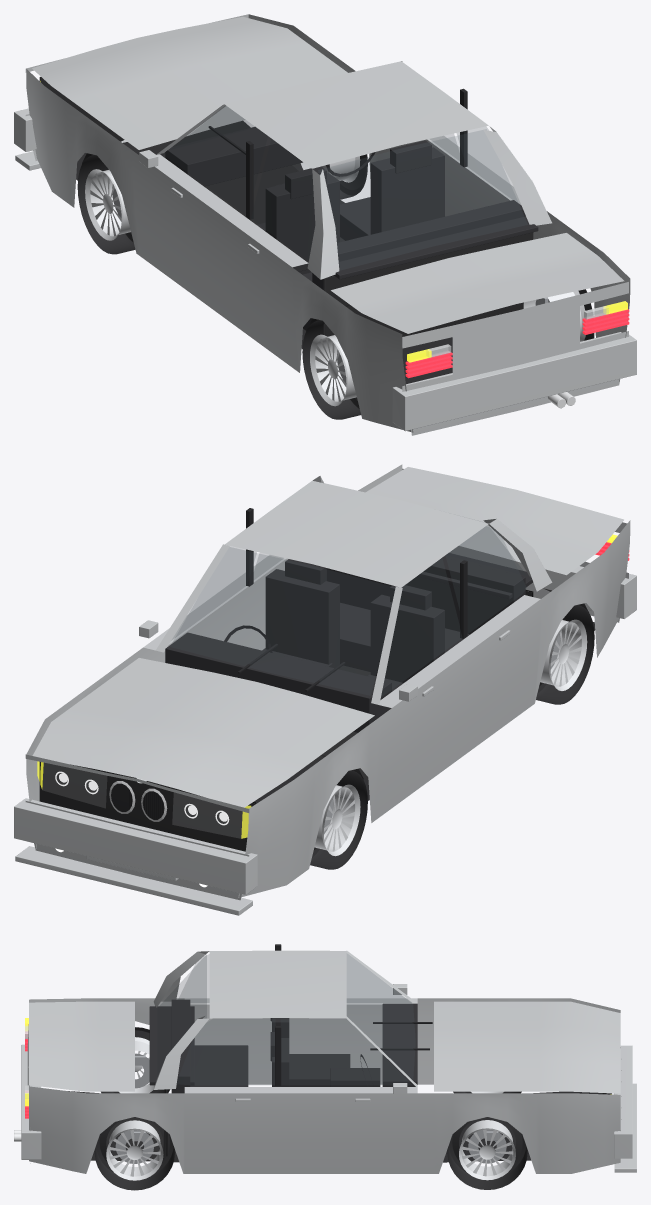
The model's file is vehicle.glb.
3 renders of one model, top to bottom at view 1: azimuth 30°, elevation 25°; view 2: azimuth 150°, elevation 25°; view 3: azimuth 270°, elevation 25°, orthographic. The views are drawn at different scales.
Parts seen in each view (by area): view 1: BODY_Monocoque_Shell, GLASS_Greenhouse, BODY_Greenhouse_Structure, CABIN_Montana_Interior, BODY_Rear_Bumper, PLATFORM_Underbody, PLATFORM_Core_Bulkheads, WHEEL_RR_Style32, WHEEL_FR_Style32, WHEEL_FR_Tire, WHEEL_RR_Tire, BODY_Front_Bumper (+4 smaller); view 2: BODY_Monocoque_Shell, GLASS_Greenhouse, CABIN_Montana_Interior, BODY_Greenhouse_Structure, BODY_Front_Bumper, PLATFORM_Core_Bulkheads, LIGHTING_Headlamp_Covers, WHEEL_RR_Style32, WHEEL_FR_Style32, BODY_Rear_Bumper, WHEEL_RR_Tire, WHEEL_FR_Tire (+3 smaller); view 3: BODY_Monocoque_Shell, GLASS_Greenhouse, BODY_Greenhouse_Structure, CABIN_Montana_Interior, BODY_Front_Bumper, WHEEL_RL_Style32, WHEEL_FL_Style32, WHEEL_FL_Tire, WHEEL_RL_Tire, PLATFORM_Underbody, BODY_Rear_Bumper, BRAKE_WHEEL_FL (+5 smaller).
Part boxes in pixels (x1,y1,x2,y2): BODY_Monocoque_Shell: [25, 14, 630, 435]; GLASS_Greenhouse: [163, 106, 527, 269]; BODY_Greenhouse_Structure: [155, 61, 551, 279]; CABIN_Montana_Interior: [165, 127, 538, 330]; BODY_Rear_Bumper: [392, 332, 636, 431]; PLATFORM_Underbody: [76, 120, 452, 384]; PLATFORM_Core_Bulkheads: [39, 77, 533, 336]; WHEEL_RR_Style32: [310, 334, 356, 406]; WHEEL_FR_Style32: [85, 169, 130, 240]; WHEEL_FR_Tire: [77, 154, 135, 254]; WHEEL_RR_Tire: [302, 320, 360, 419]; BODY_Front_Bumper: [14, 108, 126, 170]; BODY_Monocoque_Shell: [25, 464, 630, 900]; GLASS_Greenhouse: [170, 525, 526, 696]; CABIN_Montana_Interior: [165, 553, 532, 732]; BODY_Greenhouse_Structure: [143, 476, 552, 707]; BODY_Front_Bumper: [14, 798, 257, 915]; PLATFORM_Core_Bulkheads: [39, 590, 533, 851]; LIGHTING_Headlamp_Covers: [42, 763, 242, 838]; WHEEL_RR_Style32: [540, 619, 587, 690]; WHEEL_FR_Style32: [314, 784, 360, 856]; BODY_Rear_Bumper: [449, 546, 636, 618]; WHEEL_RR_Tire: [536, 605, 594, 704]; WHEEL_FR_Tire: [310, 770, 367, 869]; BODY_Monocoque_Shell: [27, 998, 621, 1173]; GLASS_Greenhouse: [158, 954, 414, 1084]; BODY_Greenhouse_Structure: [153, 950, 417, 1093]; CABIN_Montana_Interior: [149, 999, 417, 1093]; BODY_Front_Bumper: [614, 1045, 636, 1172]; WHEEL_RL_Style32: [106, 1120, 163, 1180]; WHEEL_FL_Style32: [459, 1120, 515, 1180]; WHEEL_FL_Tire: [447, 1120, 527, 1189]; WHEEL_RL_Tire: [94, 1117, 174, 1190]; PLATFORM_Underbody: [68, 1091, 611, 1162]; BODY_Rear_Bumper: [21, 1044, 41, 1159]; BRAKE_WHEEL_FL: [468, 1129, 506, 1163].
Bounding box in the file's own units: 1.96 × 1.44 × 5.
